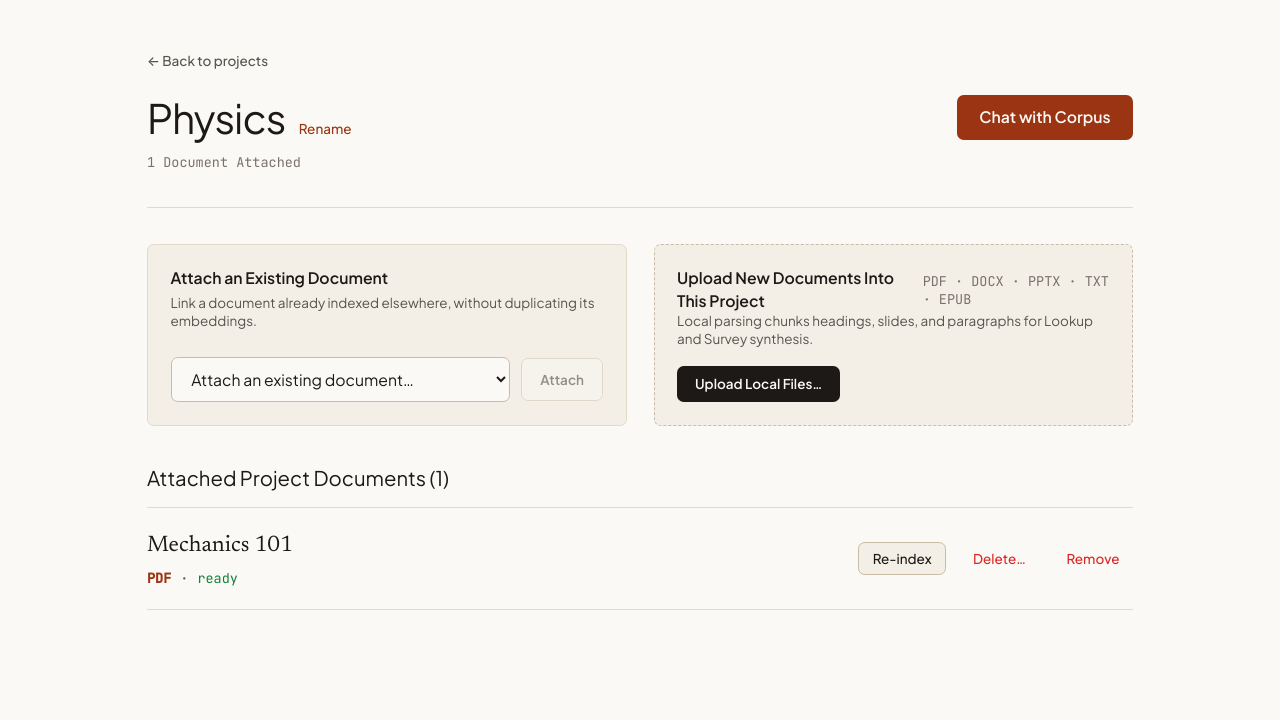
Scenario: ProjectDetailScreen › cancels a delete confirmation without deleting
Step 1. Click the button "Delete…" → (1000, 559), box x1=960 y1=543 x2=1040 y2=574
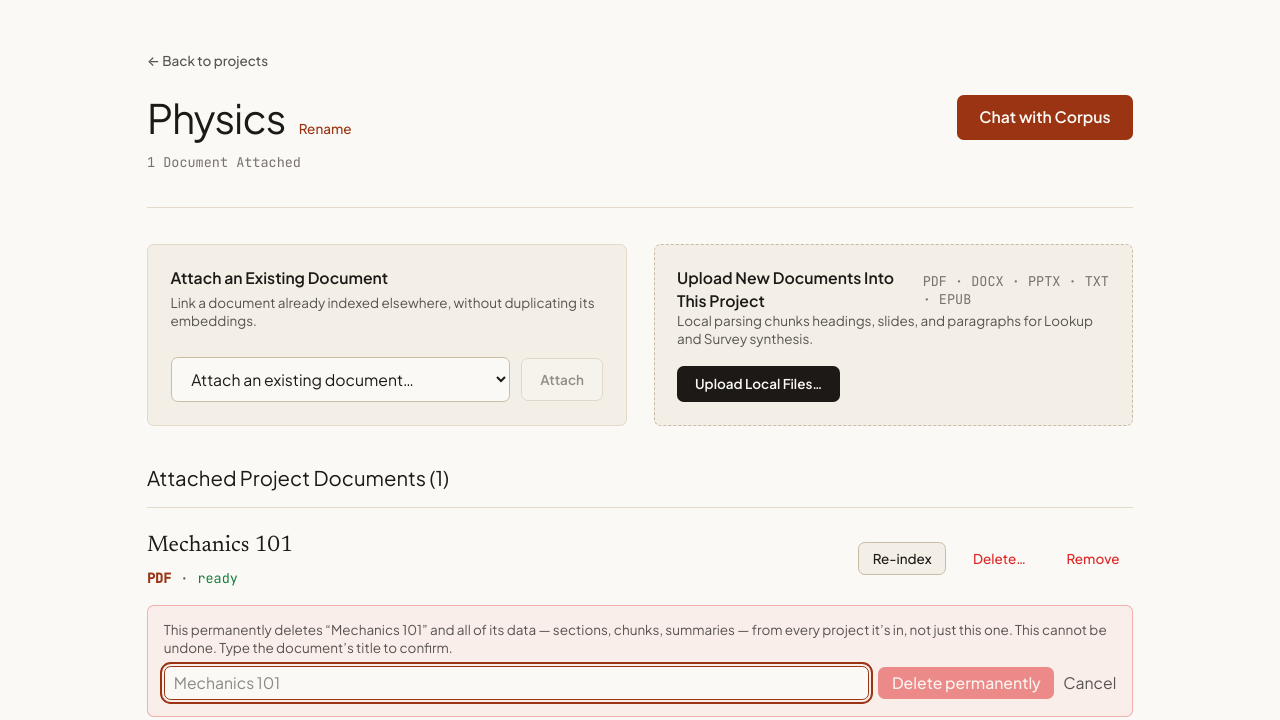
Result: the button "Delete permanently" is shown at x1=878 y1=667 x2=1054 y2=699
Step 2. Click the button "Cancel" → (1090, 683), box x1=1063 y1=672 x2=1116 y2=694
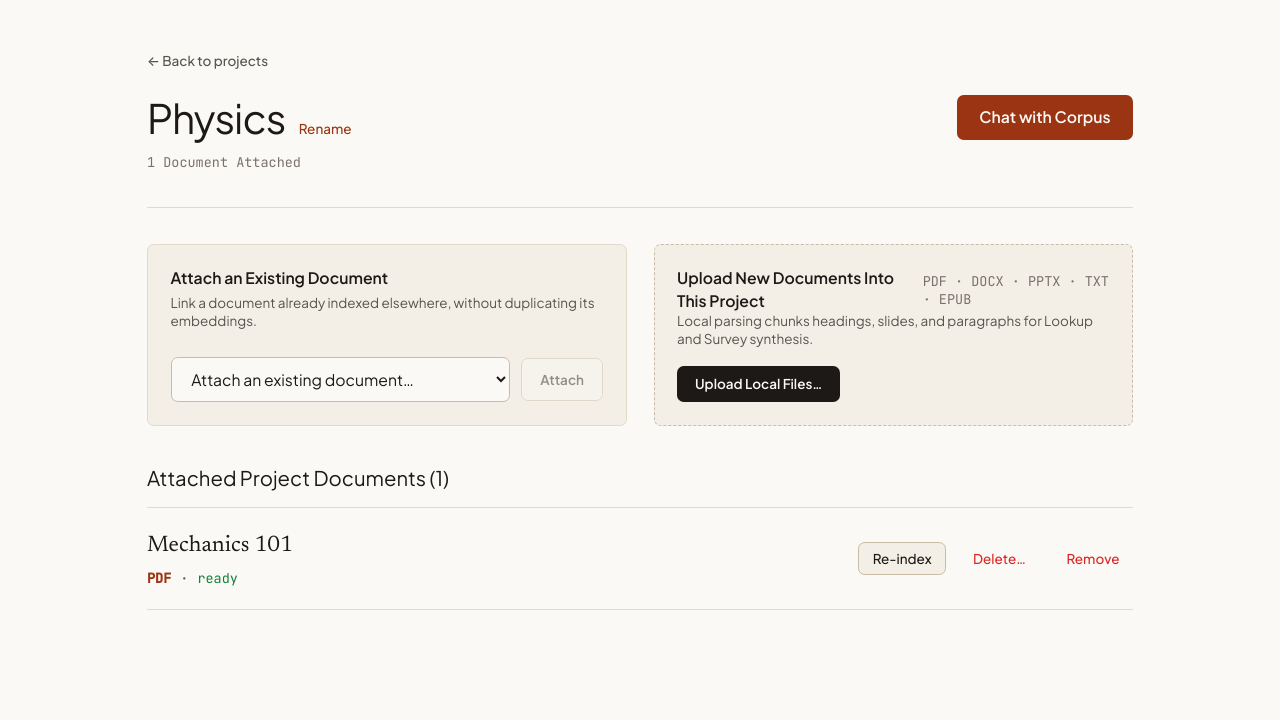
Result: the button "Delete permanently" is gone
